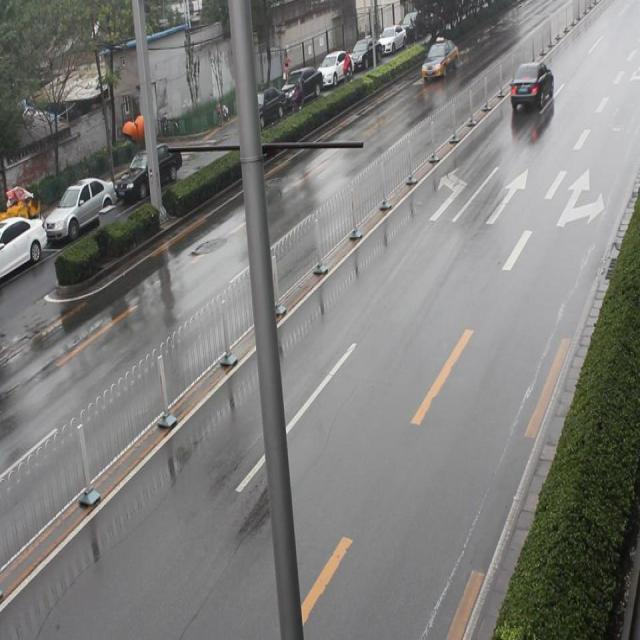car: (506, 54, 556, 117), (418, 32, 458, 90)
